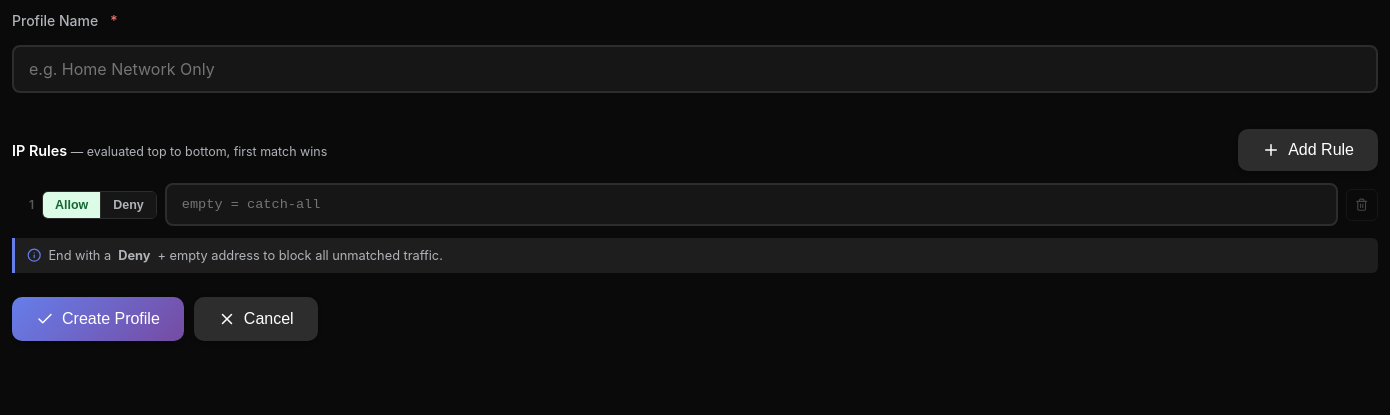
Test: AclProfileForm — save error handling › re-enables save button after error
In the field with placeholder "e.g. Home Network Only": (695, 69) [12,45,1378,93], type "Test"
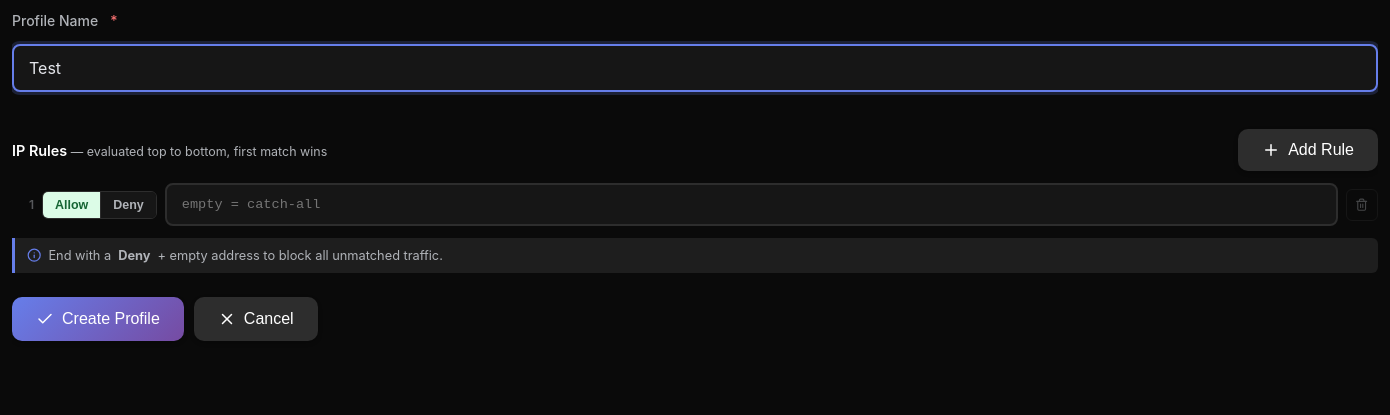
Click the button "Create Profile": (98, 319) [12,297,184,341]
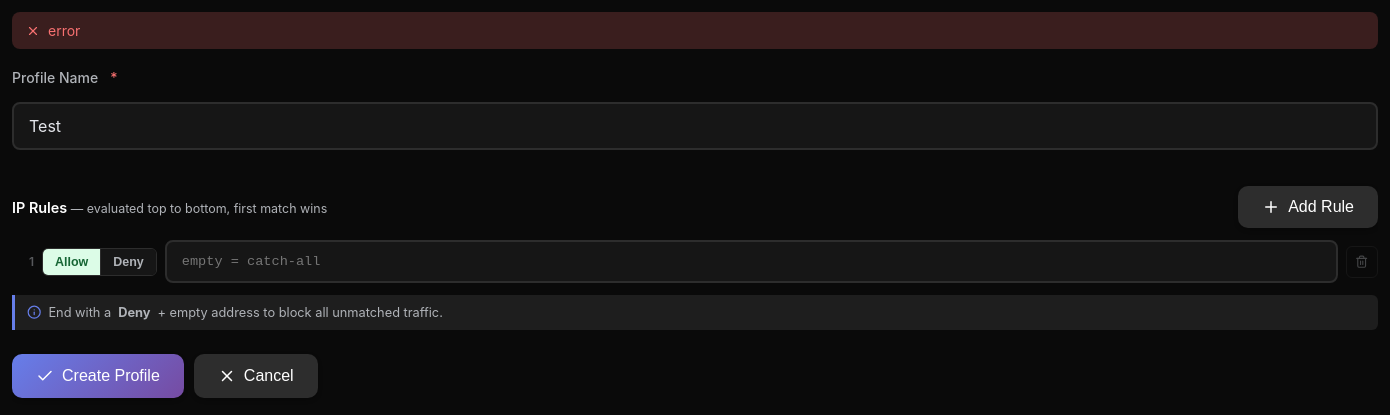
Check: the button "Create Profile" is enabled, box [12,354,184,398]
Check: the message "error" is shown, box [12,12,1378,49]
